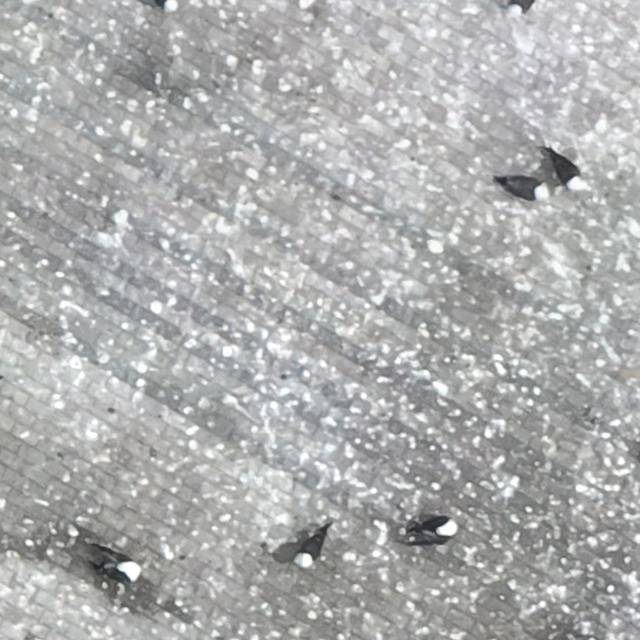umineko: (408, 514, 458, 546), (548, 151, 578, 186), (298, 530, 324, 566), (502, 178, 545, 198), (103, 563, 136, 581), (509, 0, 536, 12)
